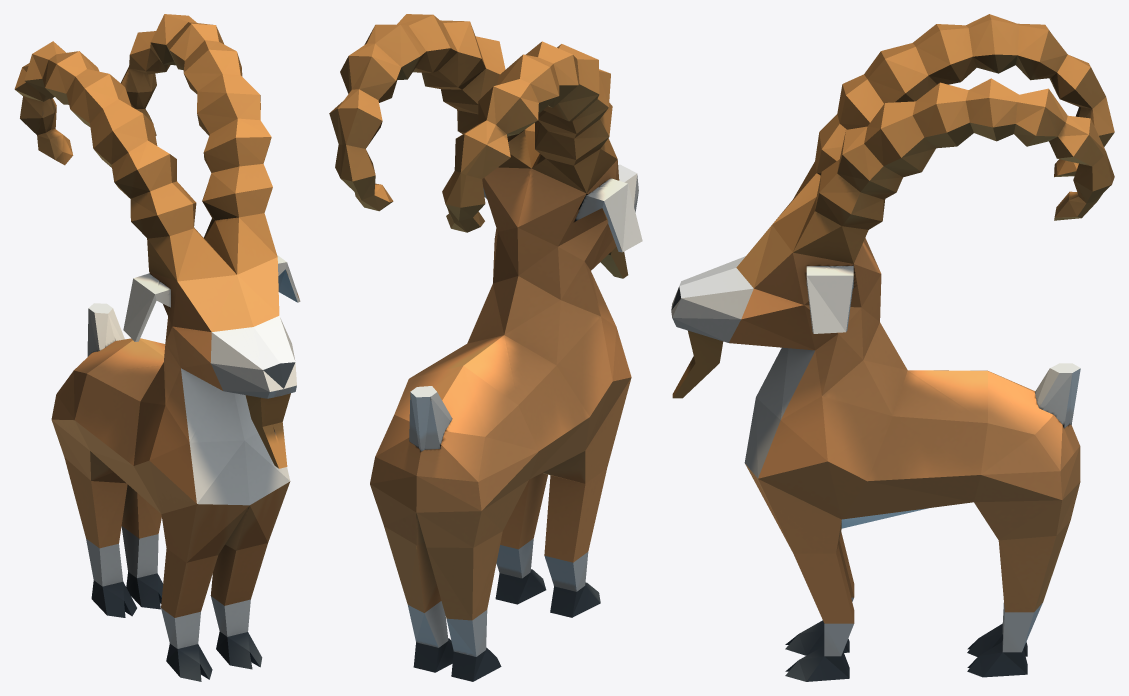
File: Goat.glb
The picture shows the model from 3 angles, left to right: view 1: azimuth 30°, elevation 25°; view 2: azimuth 150°, elevation 25°; view 3: azimuth 270°, elevation 25°; orthographic projection. The views are drawn at different scales.
Visible parts, largest first — view 1: goat; view 2: goat; view 3: goat.
Part boxes in pixels (x1,y1,x2,y2): goat: (14, 14, 300, 681); goat: (329, 14, 642, 681); goat: (671, 14, 1114, 681).
Size of the model in its own units: 0.6865 by 2.06 by 1.35.
1 material, 1 textured.
